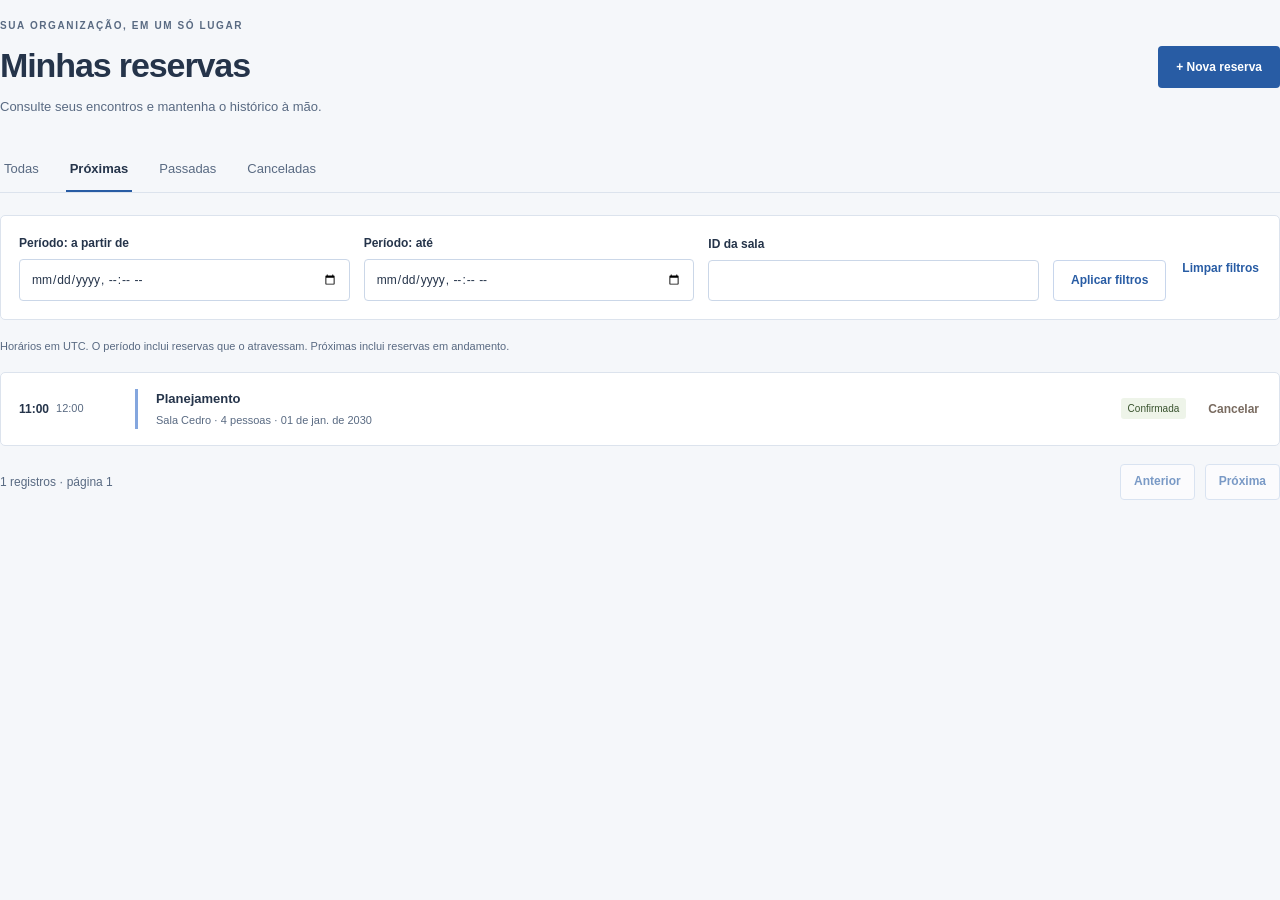
Test case: filtered reservations after cancellation › requeries upcoming (admin=false) and keeps stable success focus
The image size is (1280, 900).
What coordinates should you click on to do the following:
click the button "Cancelar"
I would click on:
 (1234, 409)
Its box is left=1206, top=391, right=1261, bottom=427.
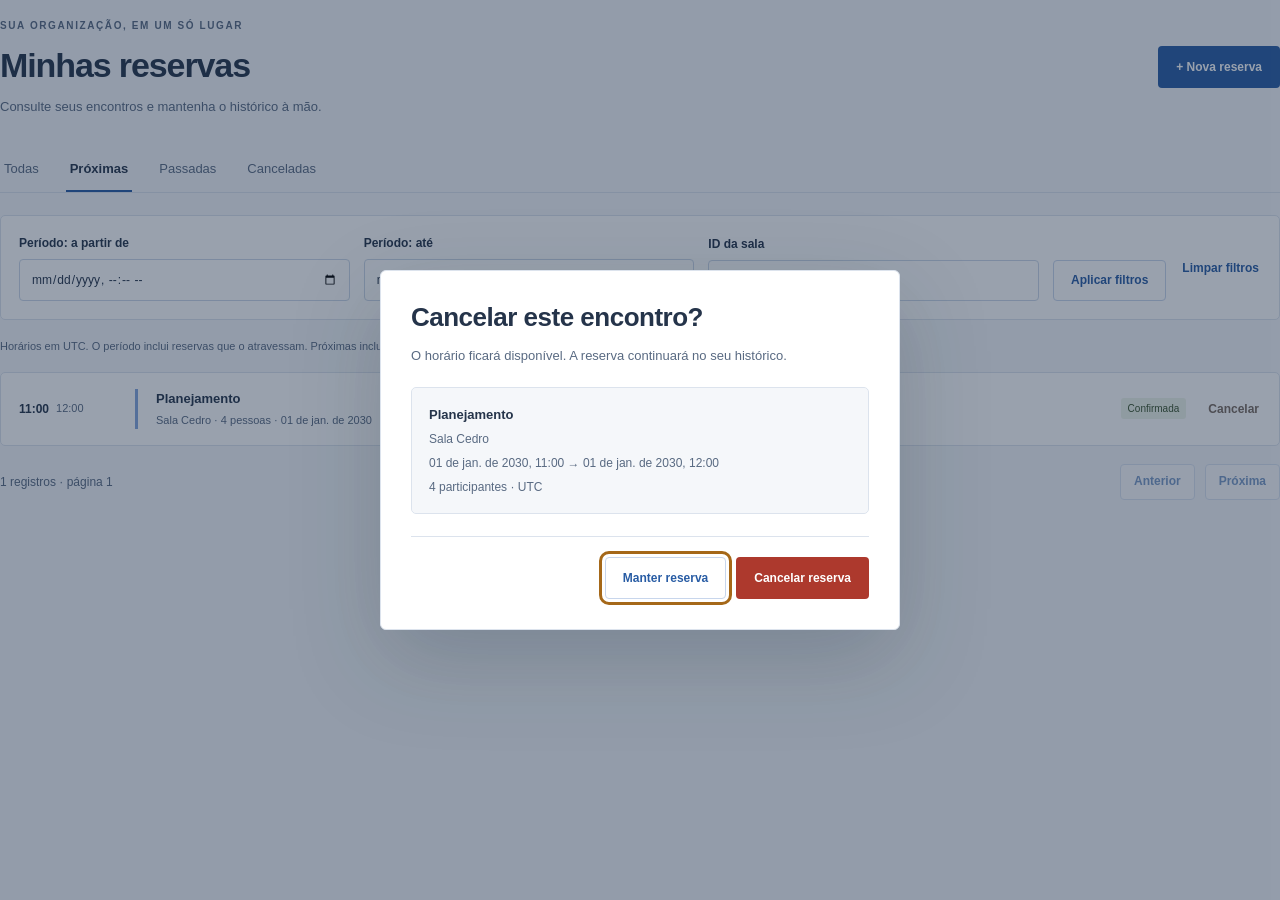
What coordinates should you click on to do the following:
click the button "Cancelar reserva"
I would click on:
 (803, 578)
Its box is left=736, top=557, right=869, bottom=599.
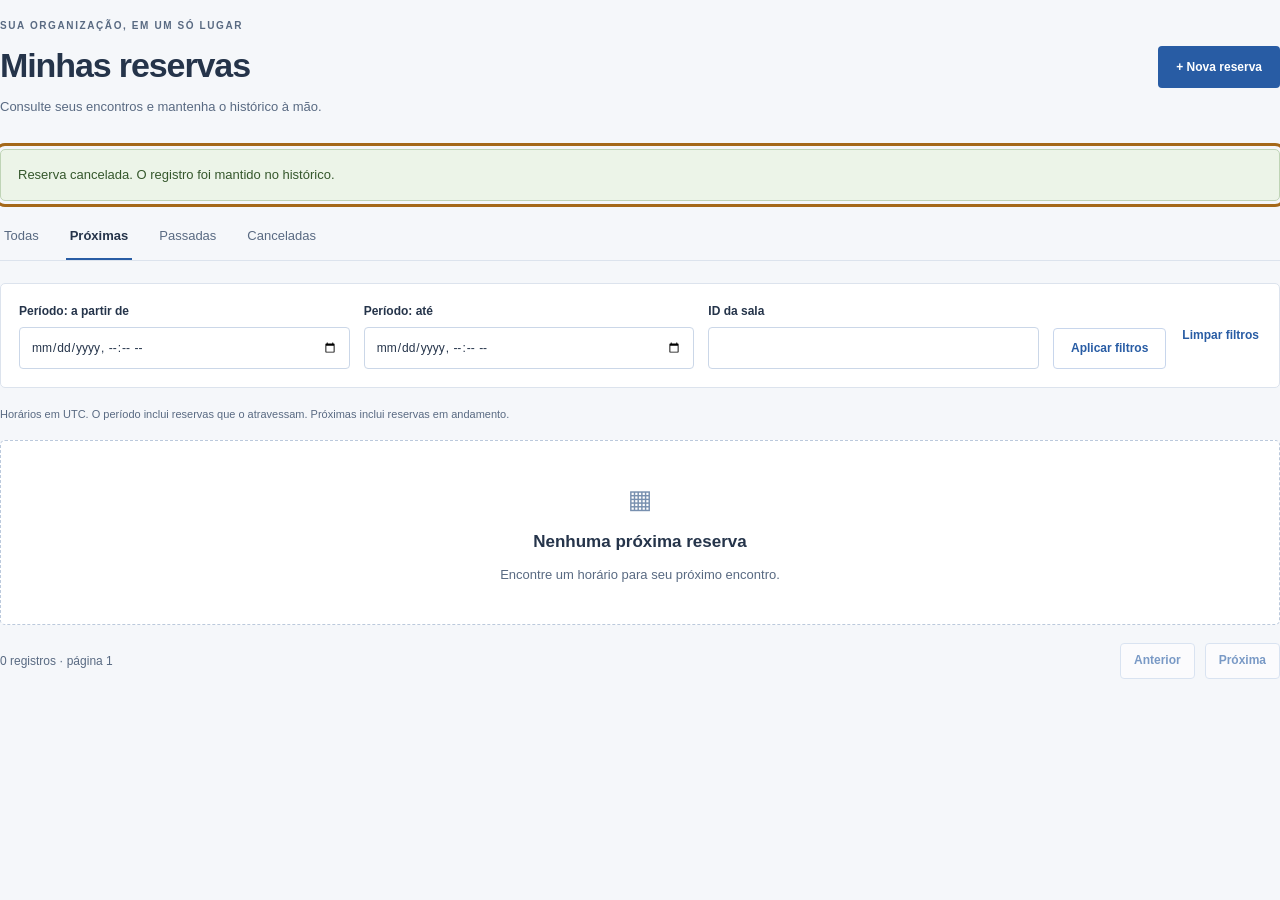
Expected: the heading "Nenhuma próxima reserva" is shown, left=533, top=529, right=747, bottom=554
Expected: the text "0 registros · página 1" is shown, left=0, top=652, right=113, bottom=670
Expected: the link "Planejamento" is gone
What coordinates should you click on to do the following:
click the button "Canceladas"
I would click on:
 (282, 238)
Its box is left=243, top=216, right=320, bottom=260.
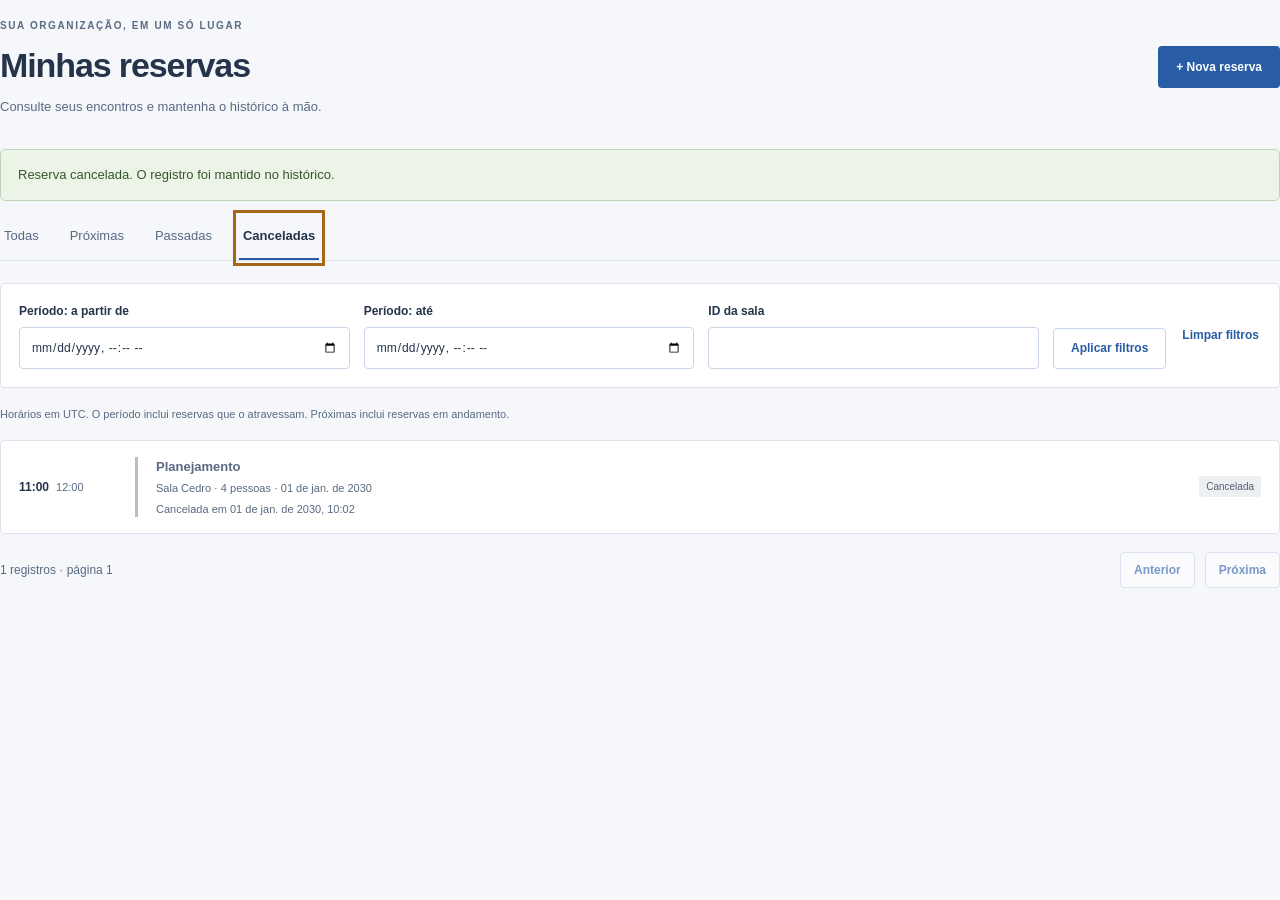
Expected: the text "Cancelada" is shown, left=1199, top=476, right=1261, bottom=497
Expected: the text "1 registros · página 1" is shown, left=0, top=561, right=113, bottom=579
Expected: the heading "Planejamento" is shown, left=156, top=458, right=240, bottom=474
